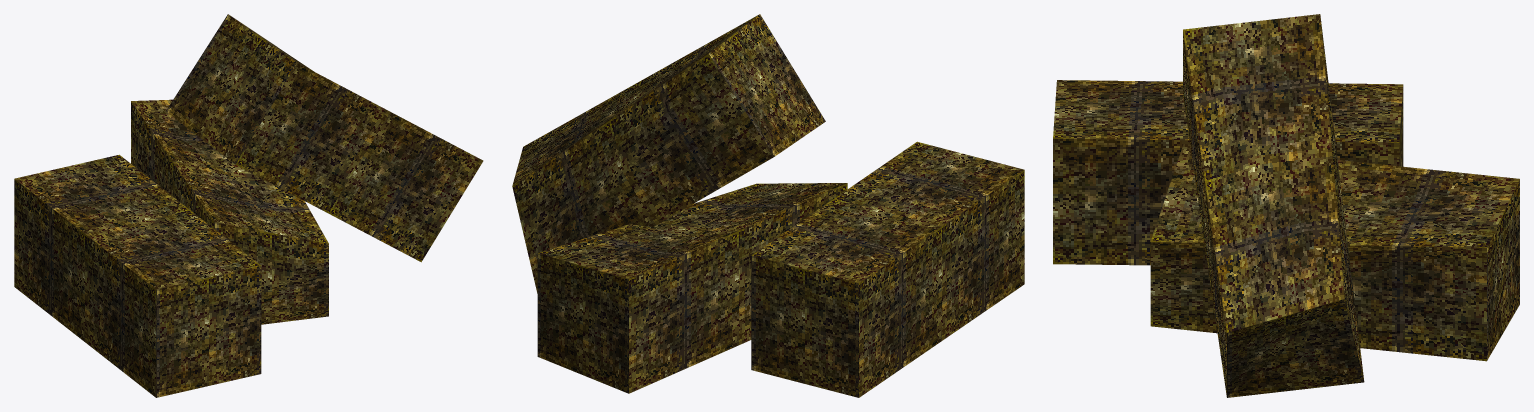
File: Environment - Prop - Haystack - Damaged - PMHAYSTACK_D.glb
The picture shows the model from 3 angles, left to right: view 1: azimuth 30°, elevation 25°; view 2: azimuth 150°, elevation 25°; view 3: azimuth 270°, elevation 25°; orthographic projection. The views are drawn at different scales.
Parts seen in each view (by area): view 1: PMHAYSTACK_D; view 2: PMHAYSTACK_D; view 3: PMHAYSTACK_D.
Boxes of the visible parts, x1,y1,x2,y2 form: PMHAYSTACK_D: (14, 14, 483, 397); PMHAYSTACK_D: (512, 14, 1024, 397); PMHAYSTACK_D: (1053, 14, 1519, 397).
Size of the model in its own units: 19.37 by 11.84 by 16.85.
Materials: 1 (1 with a texture image).
